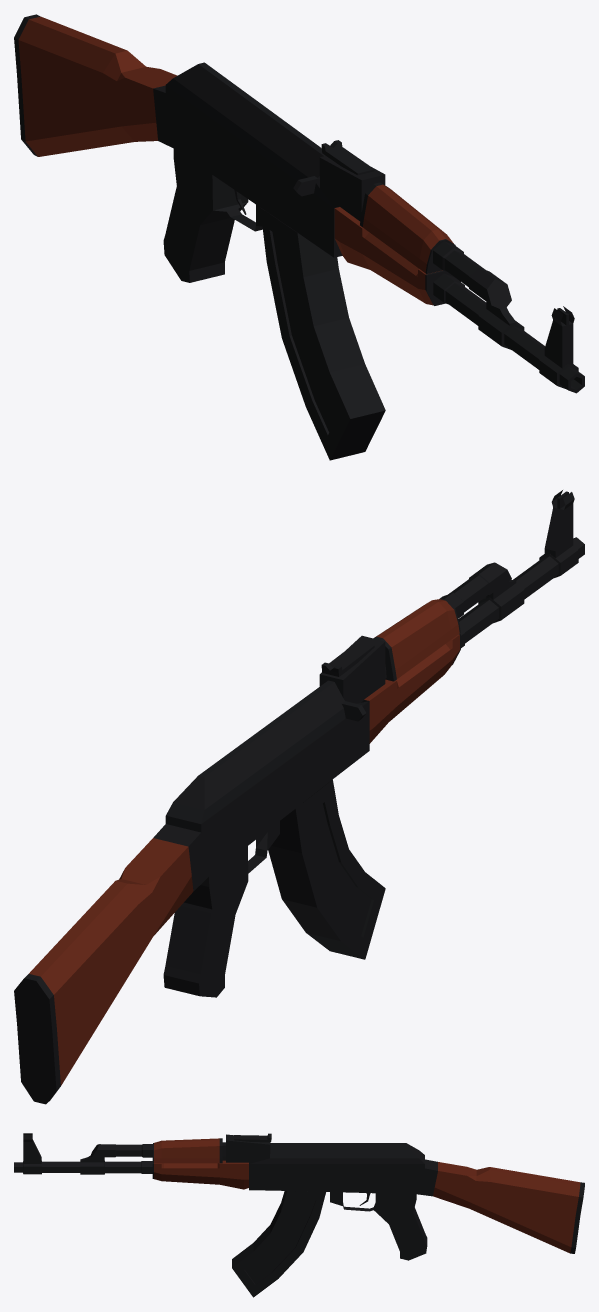
The picture shows the model from 3 angles, top to bottom: view 1: azimuth 30°, elevation 25°; view 2: azimuth 150°, elevation 25°; view 3: azimuth 270°, elevation 25°; orthographic projection. The views are drawn at different scales.
Parts seen in each view (by area): view 1: Cube.009; view 2: Cube.009; view 3: Cube.009.
Part boxes in pixels (<box>): Cube.009: <box>14,14,584,460</box>; Cube.009: <box>14,490,584,1104</box>; Cube.009: <box>14,1133,584,1297</box>.
Bounding box in the file's own units: 0.3296 × 1.82 × 5.95.
